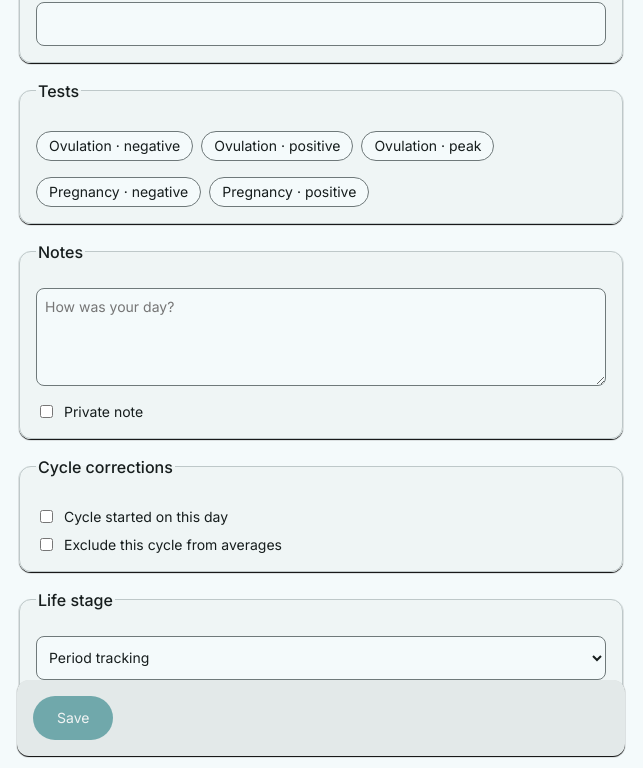
Test: DayPage (issue #1254) › saves through the data module and shows the saved status
(page scrolled)
Type "logged on the web" into the text box named "Notes" at x=321, y=336, box [36,288,606,386]
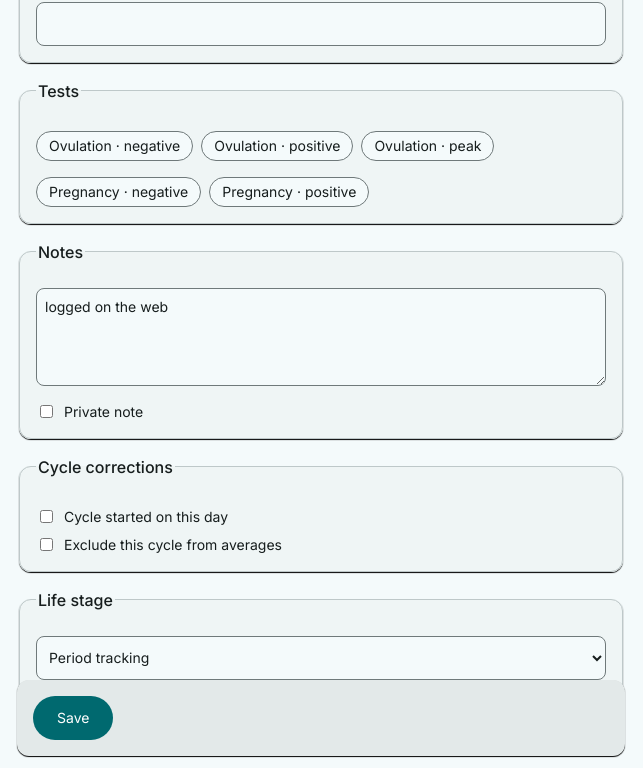
Click the button "Save" at x=73, y=718, box [33,696,113,740]
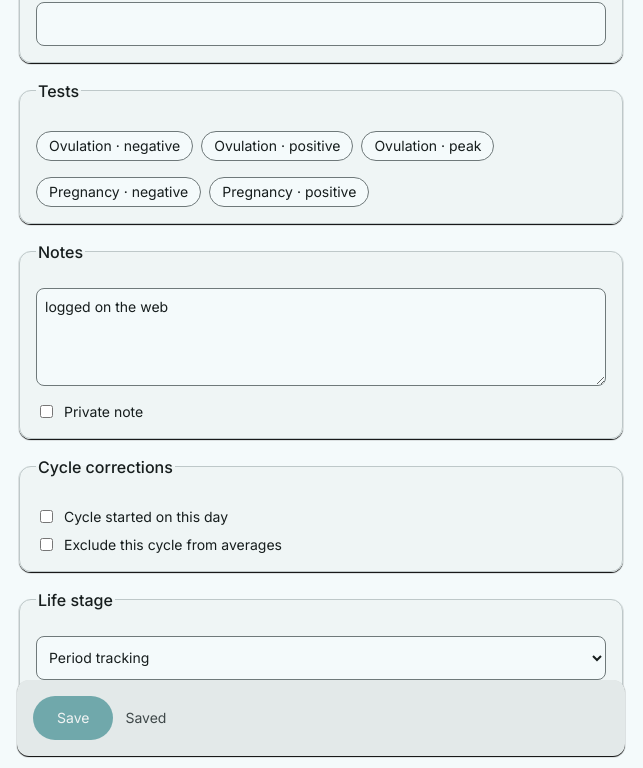
Result: the text "Saved" is shown at [125,708,166,728]
